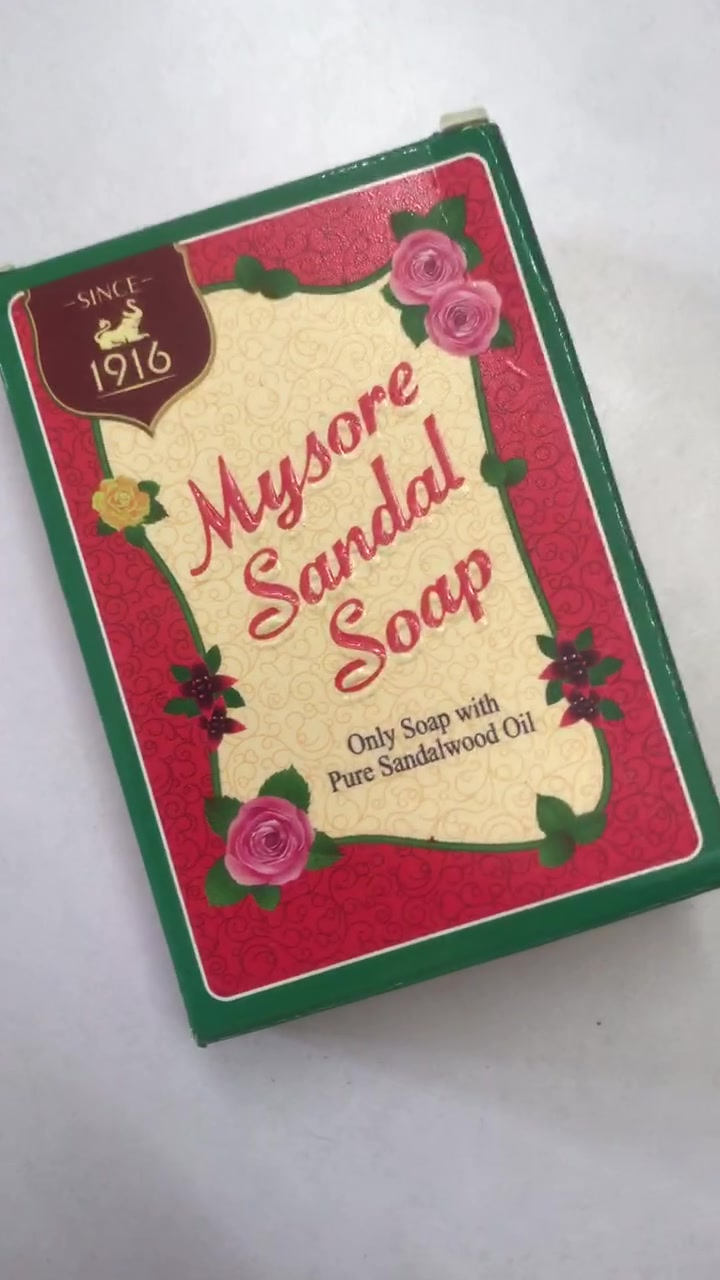mysore sandal soap: (8, 124, 720, 1044)
